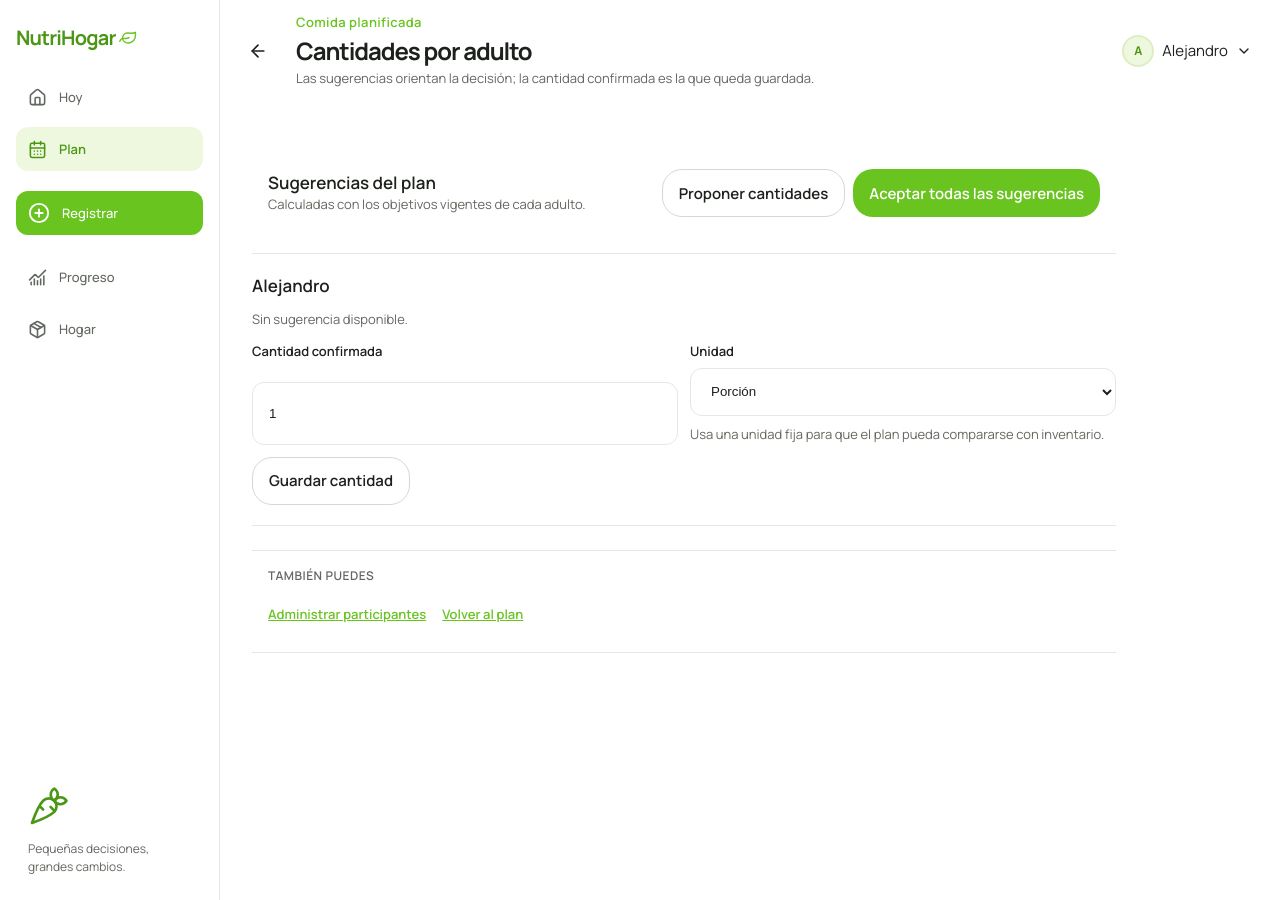
Test case: PlannedMealQuantitiesPage › retains the entered quantity when saving fails
Replace the text in the number field labelled "Cantidad confirmada" with "2.5" at (465, 414), box top-left (252, 382), bottom-right (678, 445)
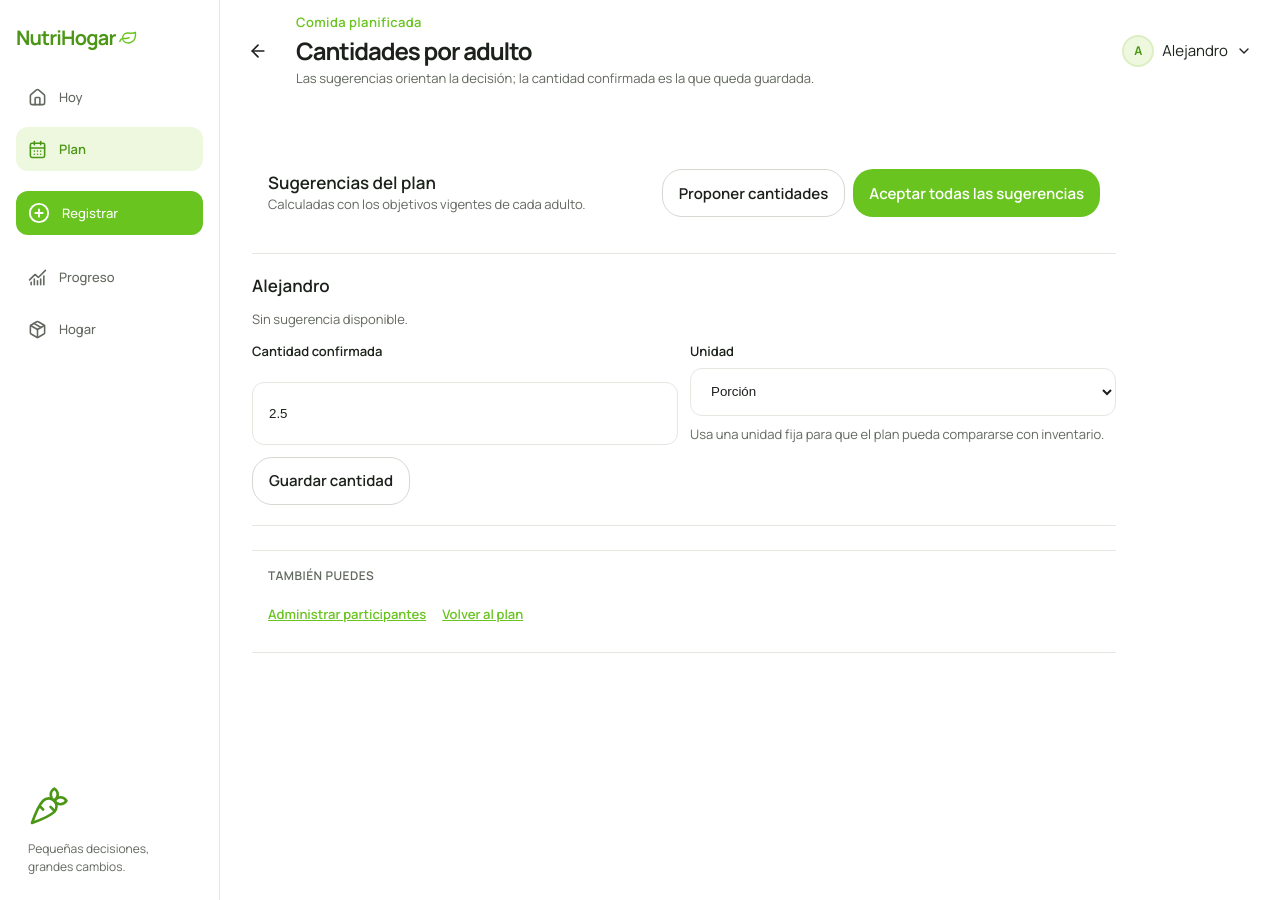
Click the button "Guardar cantidad" at (331, 481), box top-left (252, 457), bottom-right (410, 505)
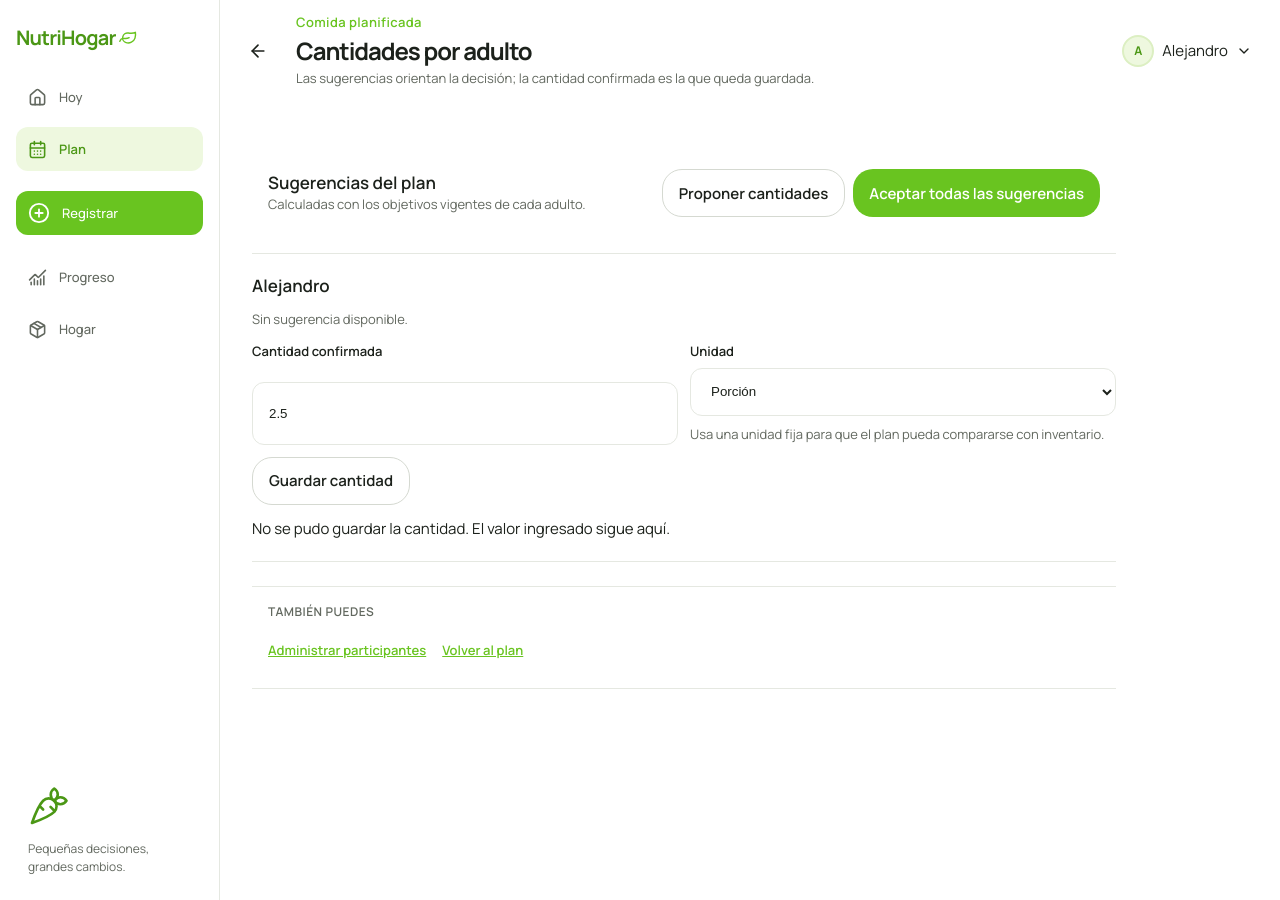
Expected: the text "No se pudo guardar la cantidad. El valor ingresado sigue aquí." is shown, top-left (252, 518), bottom-right (670, 539)
